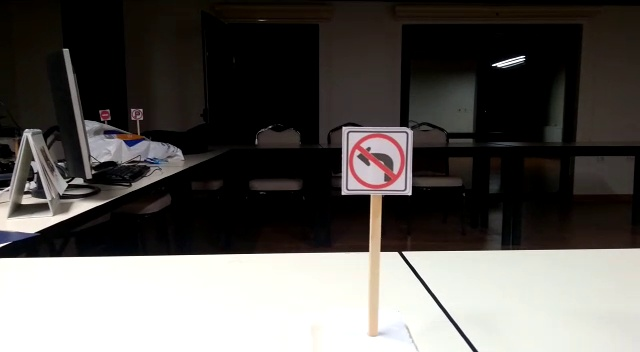sola_donulmez: (347, 129, 407, 186)
